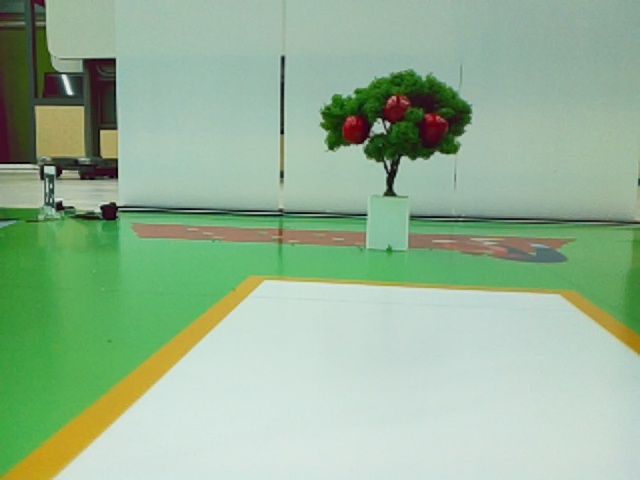apple: (385, 96, 411, 120), (424, 113, 448, 139), (342, 116, 363, 143)
